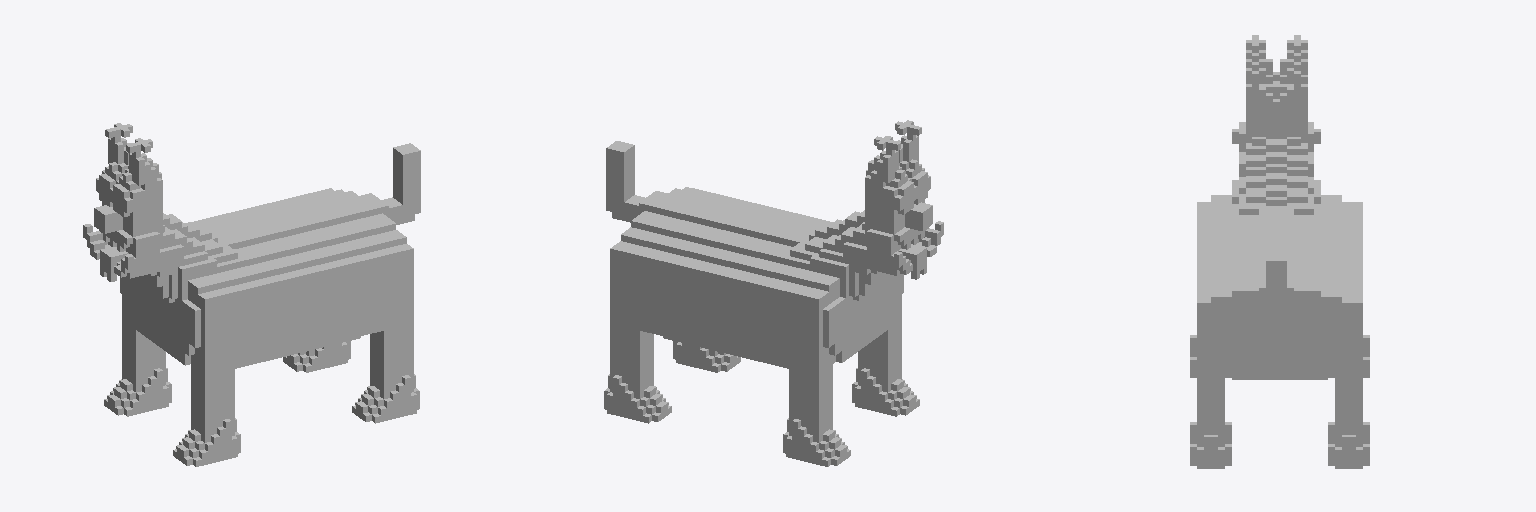
The model's file is enemy.obj.
3 views of the same model, side by side, from view 1: azimuth 30°, elevation 25°; view 2: azimuth 150°, elevation 25°; view 3: azimuth 270°, elevation 25° (orthographic).
Parts seen in each view (by area): view 1: Untitled; view 2: Untitled; view 3: Untitled.
Boxes of the visible parts, <box> form: Untitled: <box>83,123,420,466</box>; Untitled: <box>604,120,943,466</box>; Untitled: <box>1190,35,1369,468</box>.
Size of the model in its own units: 5.3 by 4.9 by 2.6.